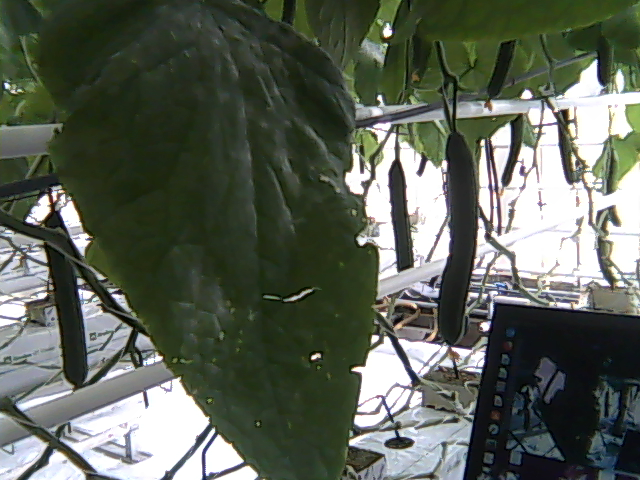concombre: (434, 128, 483, 365)
